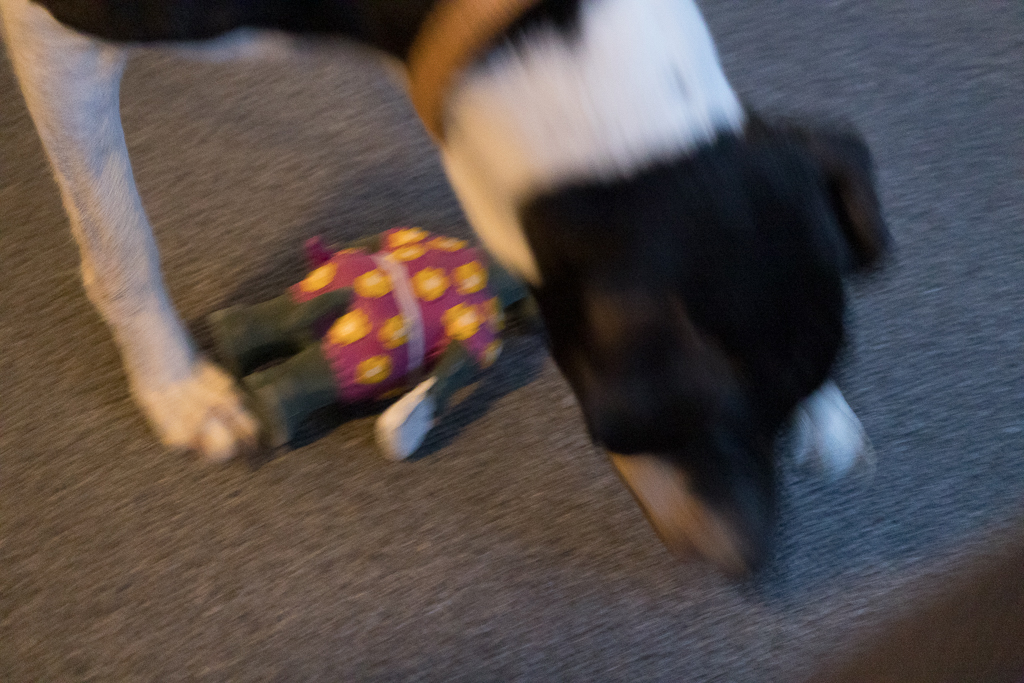Dog: (0, 0, 891, 609)
Humanoid: (161, 209, 585, 478)
